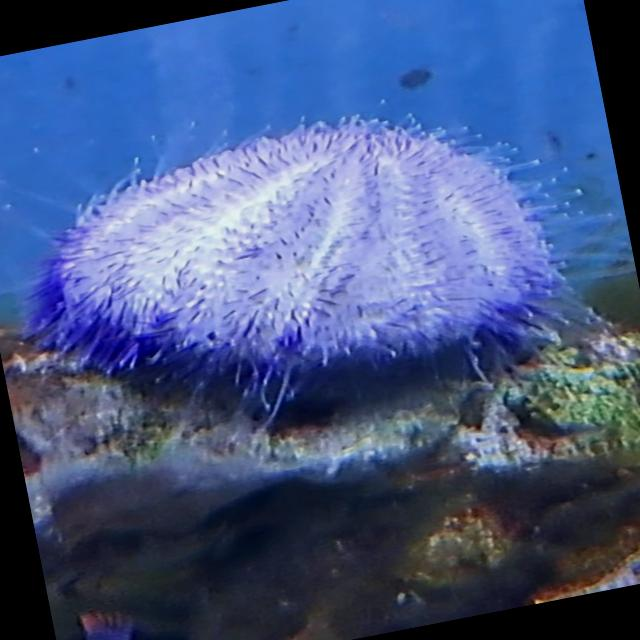Deniz Kestanesi: (0, 69, 622, 457)
